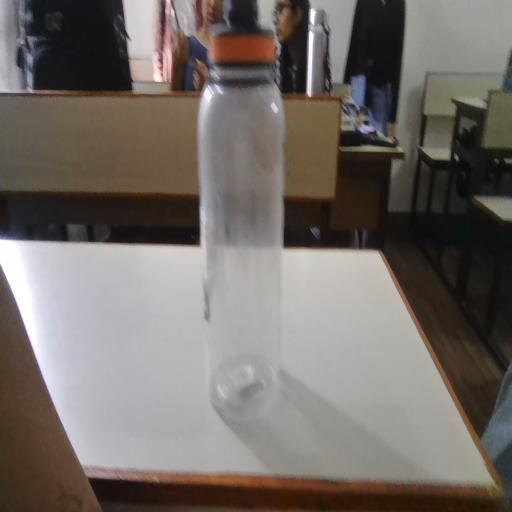Bottle: (185, 30, 290, 412)
